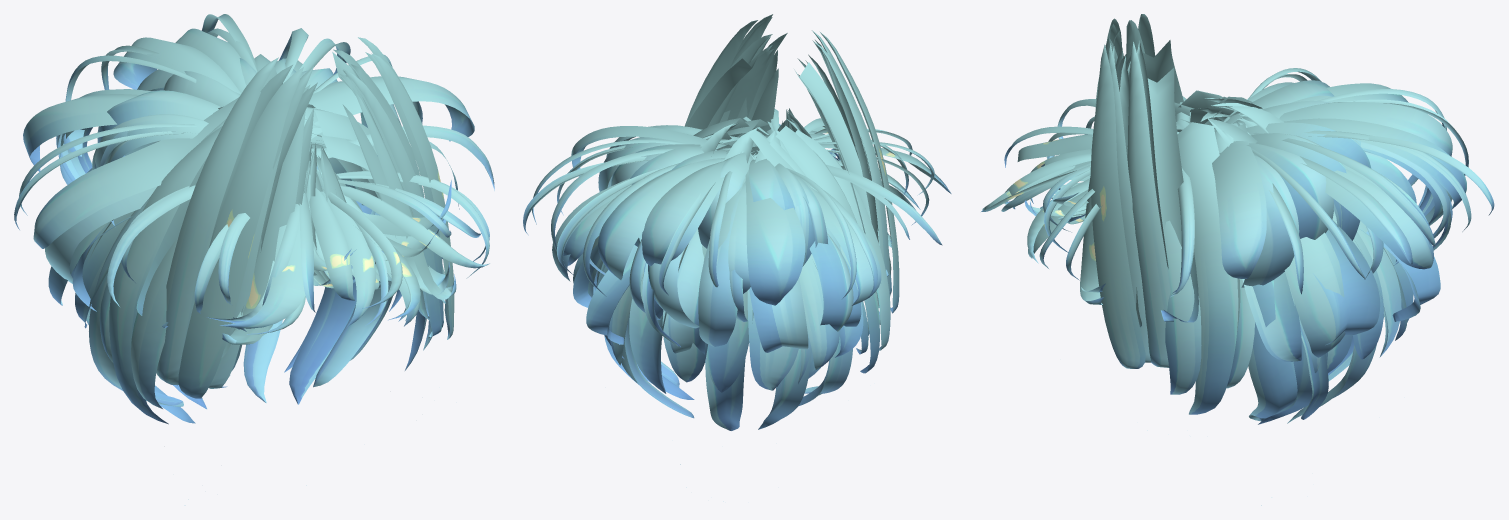
File: vroid_hair_m4.glb
3 renders of one model, left to right at view 1: azimuth 30°, elevation 25°; view 2: azimuth 150°, elevation 25°; view 3: azimuth 270°, elevation 25°, orthographic. The views are drawn at different scales.
Parts seen in each view (by area): view 1: hair; view 2: hair; view 3: hair.
Boxes of the visible parts, x1,y1,x2,y2 form: hair: [14, 14, 494, 505]; hair: [523, 14, 951, 501]; hair: [981, 14, 1494, 505].
Bounding box in the file's own units: 0.2355 × 0.2815 × 0.28.
4 materials, 4 textured.
